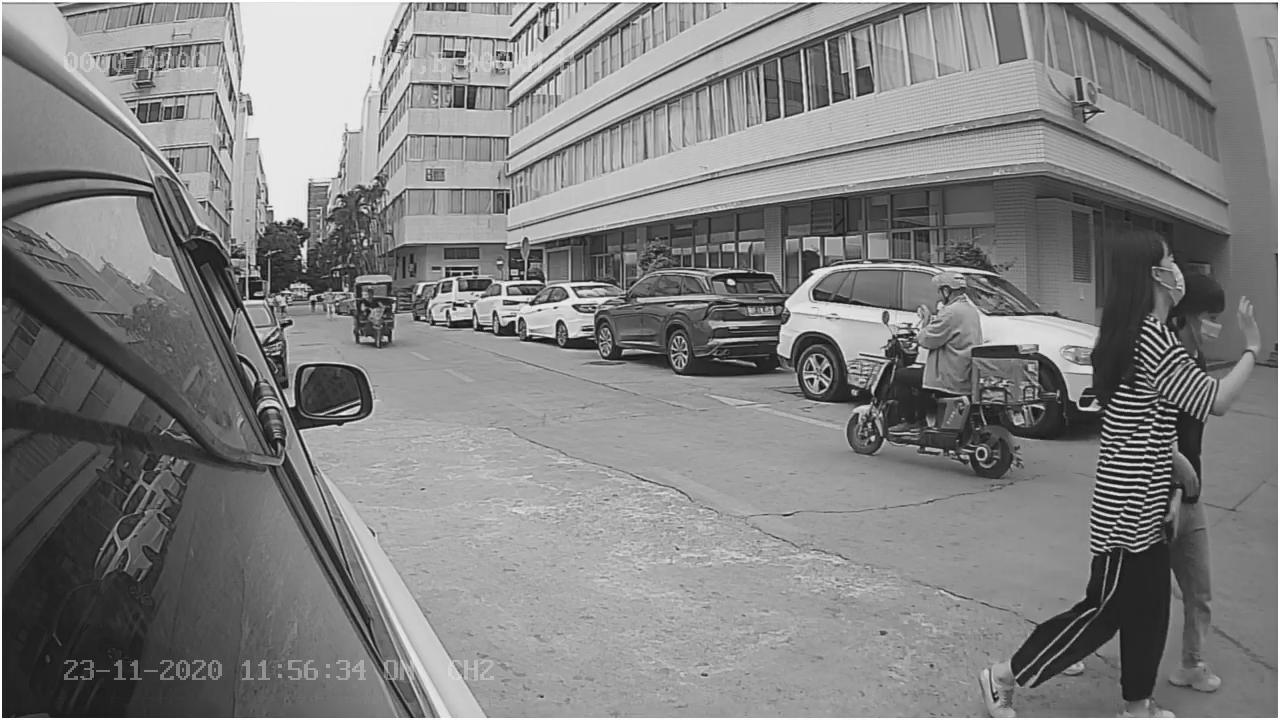person: (1079, 223, 1196, 720), (922, 267, 981, 389)
